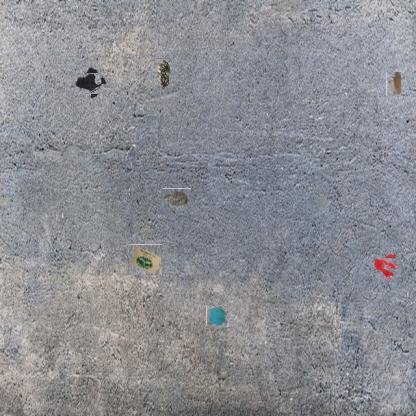dirty: (128, 244, 162, 275), (163, 187, 190, 213), (154, 58, 172, 90), (206, 305, 227, 326), (386, 72, 401, 96)
liquid: (78, 69, 105, 97), (375, 255, 399, 279)
